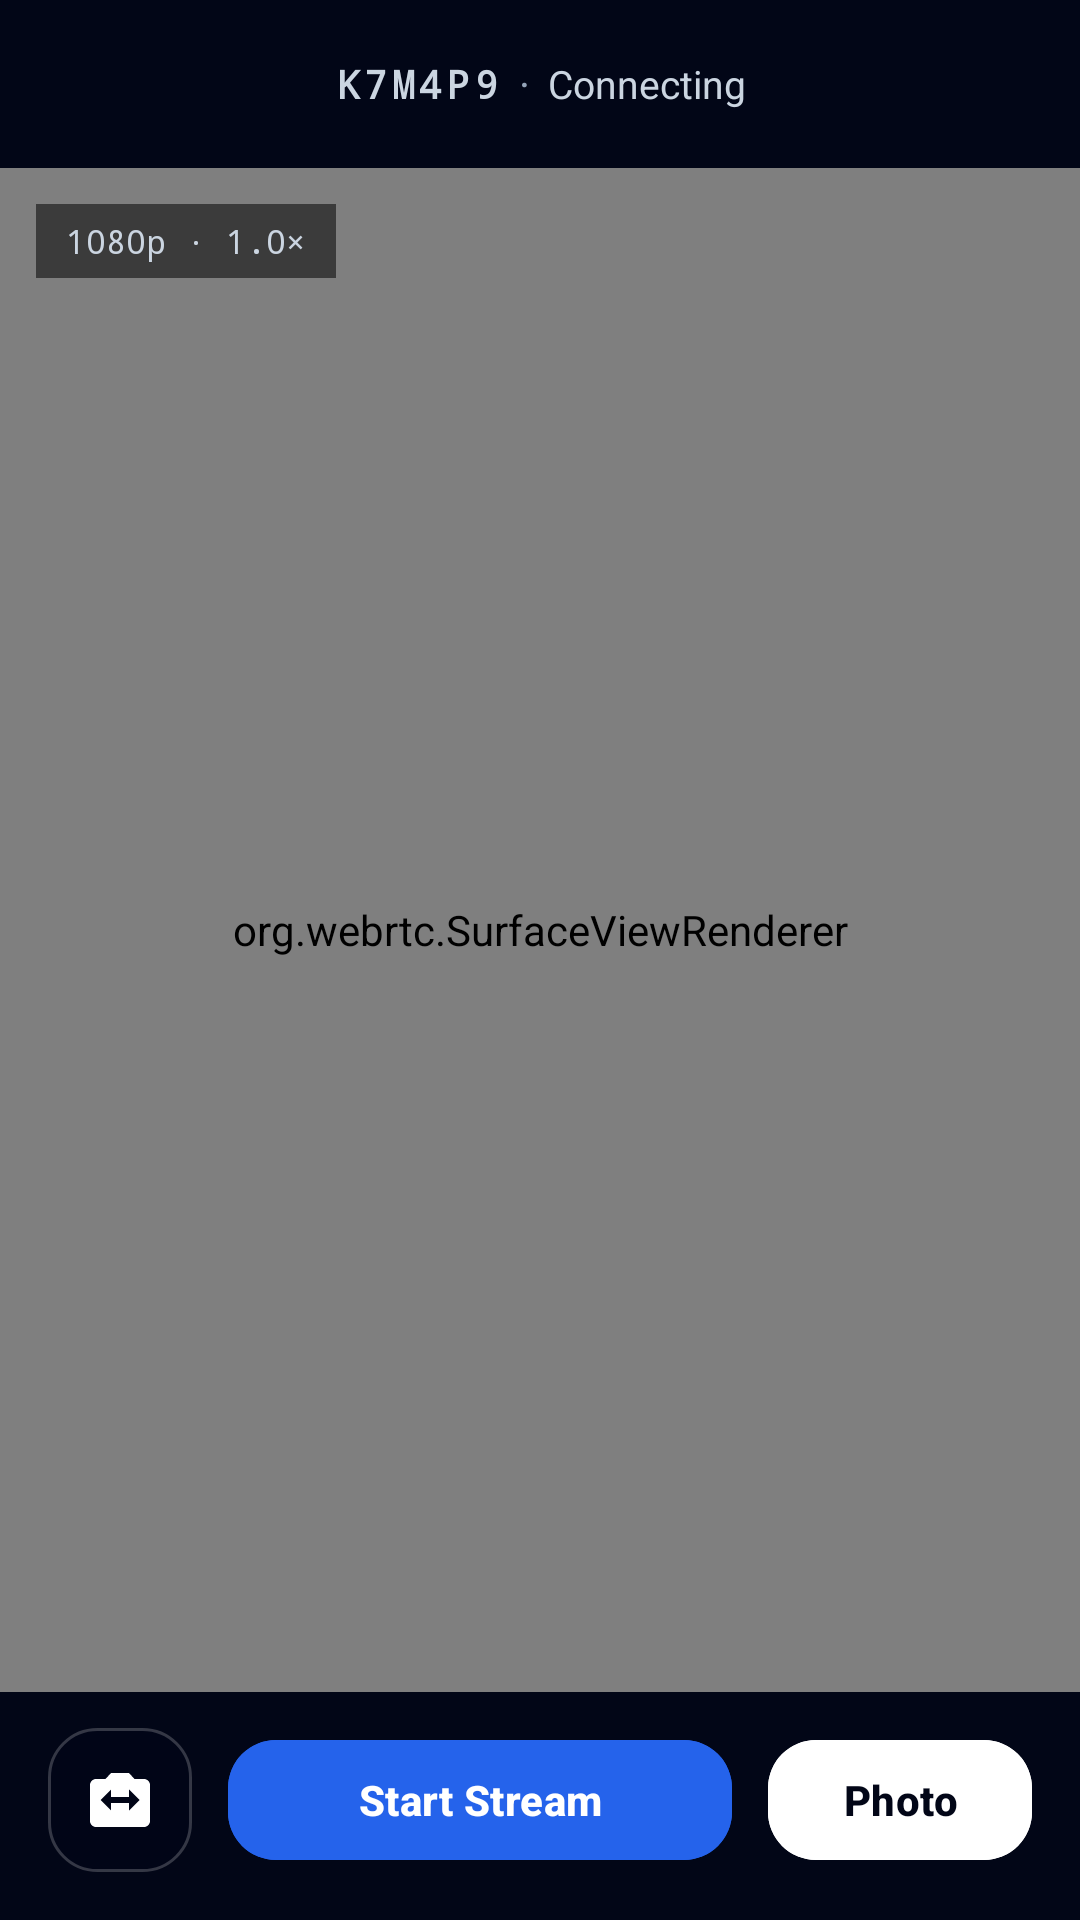

Locate icon controls on the screen. Image size 1080px×1920px, boxes as (x1, y1, x2, y2).
Switch front or rear camera: (48, 1728, 192, 1872)
